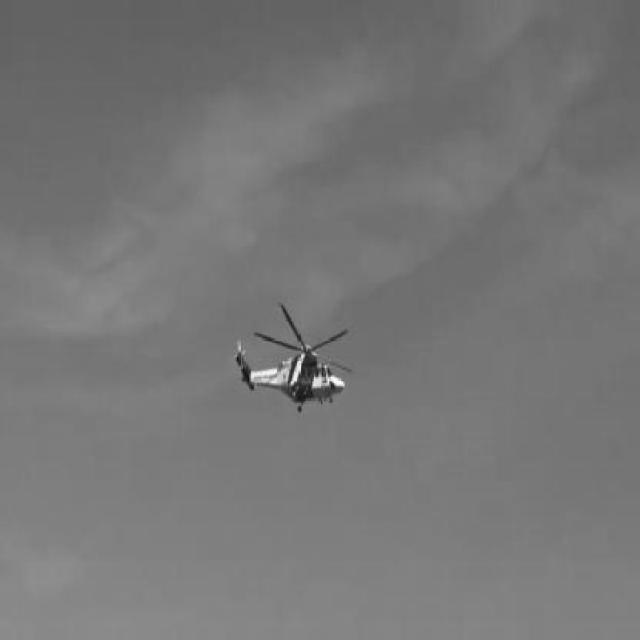helikopter: (235, 304, 352, 412)
